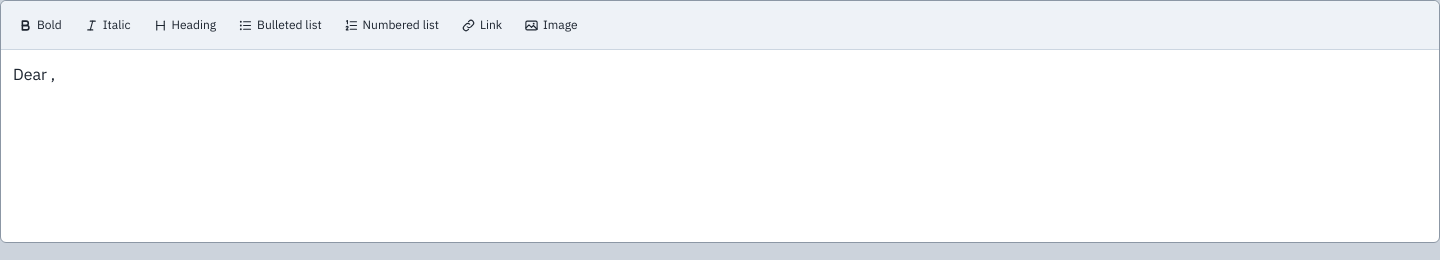
Test: RichTextEditor field chips › turns pasted token text into a chip
Click the field named "Message" at x=34, y=74, box [13,64,55,84]
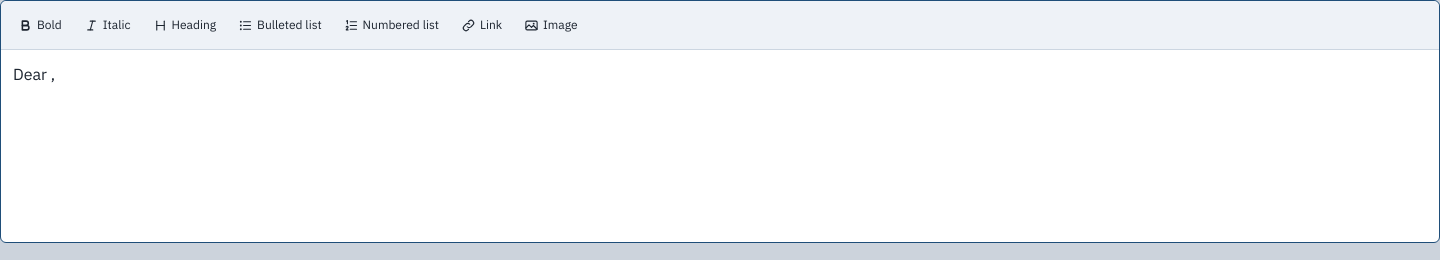
Press Dart_name
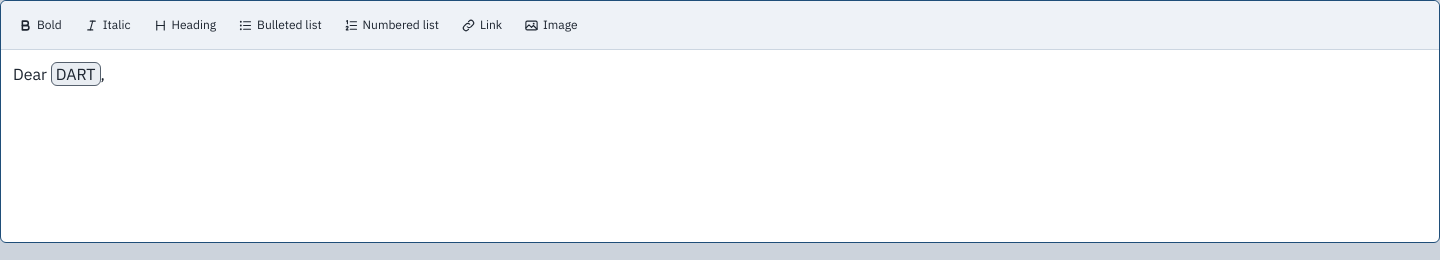
Result: the text "DART" is shown at [51,62,100,86]
